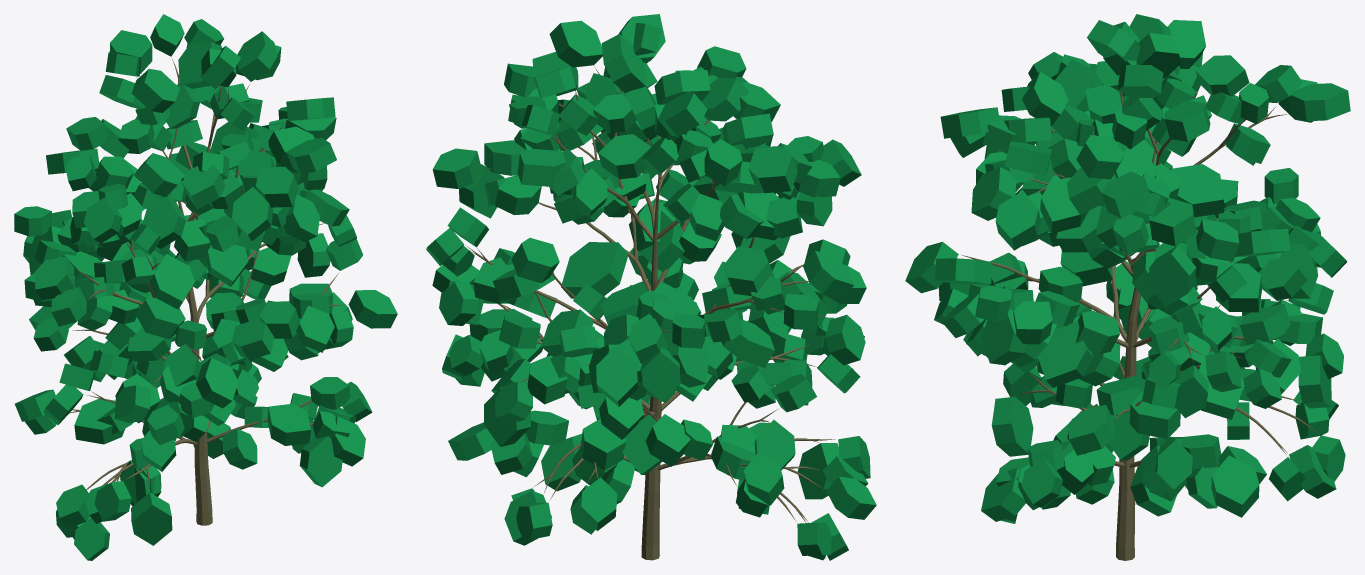
Rendered from bigLeavesShrubs.fbx.
The picture shows the model from 3 angles, left to right: view 1: azimuth 30°, elevation 25°; view 2: azimuth 150°, elevation 25°; view 3: azimuth 270°, elevation 25°; orthographic projection. The views are drawn at different scales.
Parts seen in each view (by area): view 1: bigLeavesShrubs; view 2: bigLeavesShrubs; view 3: bigLeavesShrubs.
Part boxes in pixels (x1,y1,x2,y2): bigLeavesShrubs: (14,14,397,560); bigLeavesShrubs: (426,14,876,560); bigLeavesShrubs: (905,14,1350,560).
Size of the model in its own units: 103 by 134 by 100.
